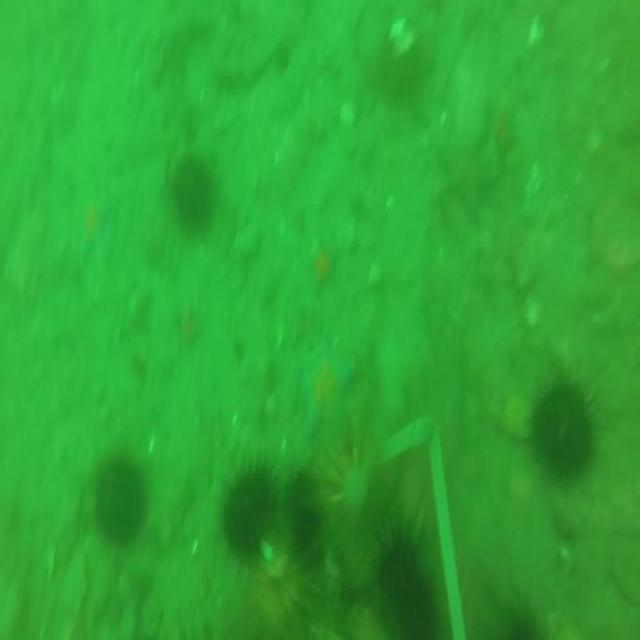echinus: (371, 526, 441, 640), (532, 374, 598, 479), (222, 463, 282, 552), (95, 452, 144, 548), (167, 160, 216, 238), (286, 462, 323, 554)
scallop: (389, 20, 416, 57), (527, 17, 548, 46)
starfish: (306, 327, 356, 462)
